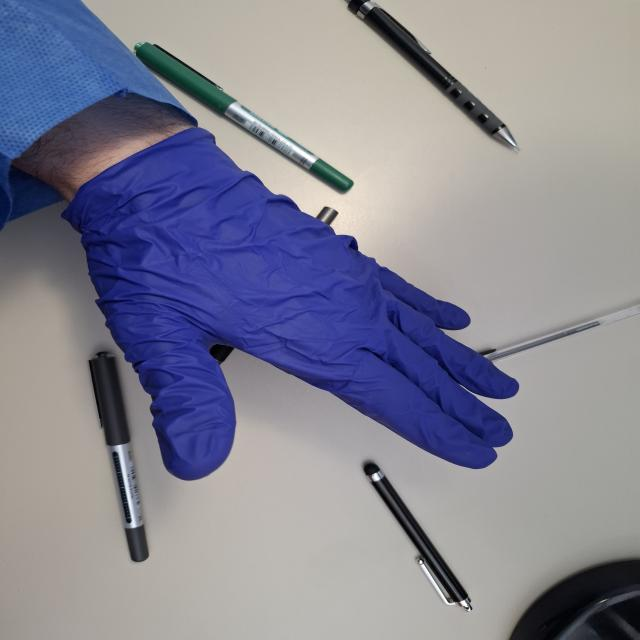glove_on: (48, 116, 524, 483)
